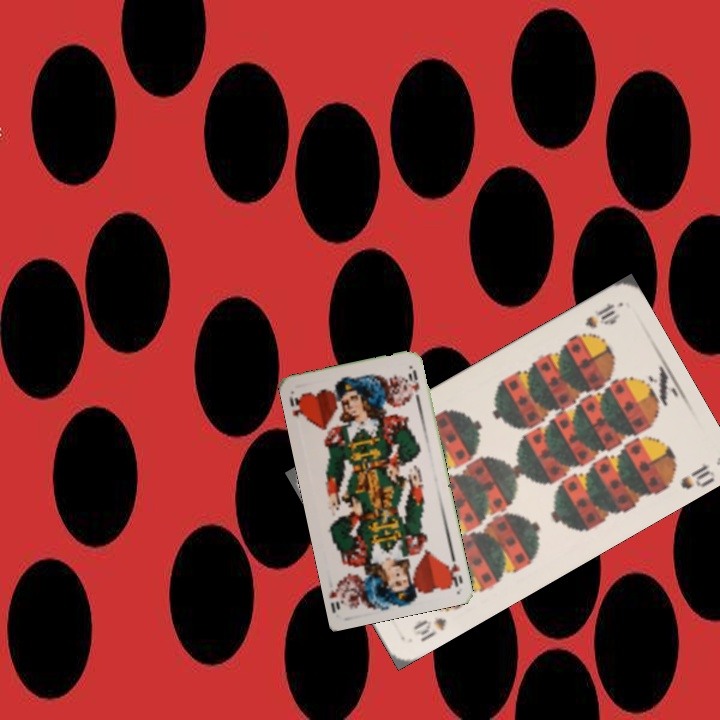HO: (443, 548, 465, 590), (285, 389, 308, 419)
S10: (409, 601, 459, 644), (581, 298, 622, 331)
